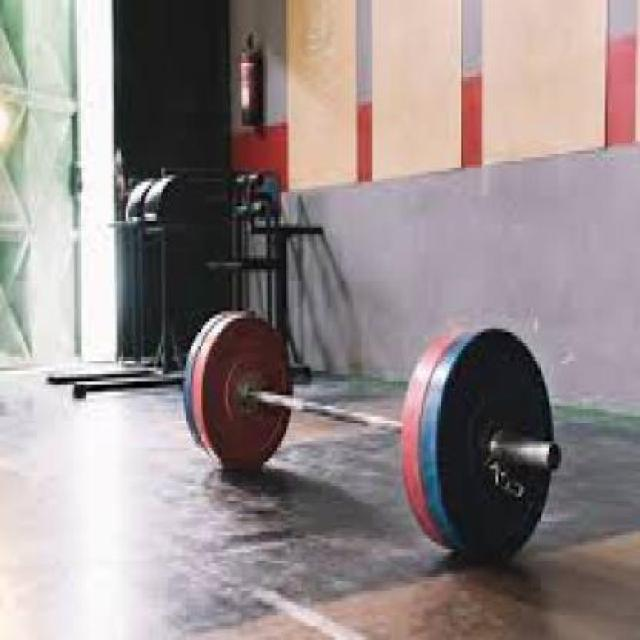barbell: (395, 314, 572, 566)
